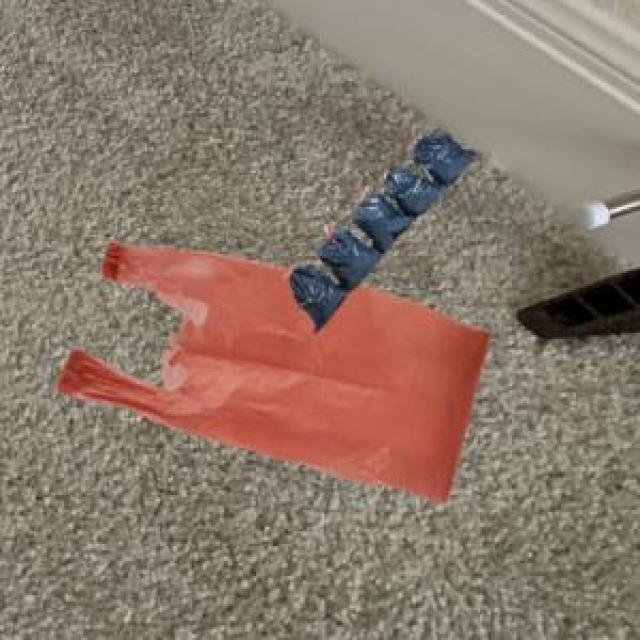miscellaneous trash: (286, 128, 472, 326)
